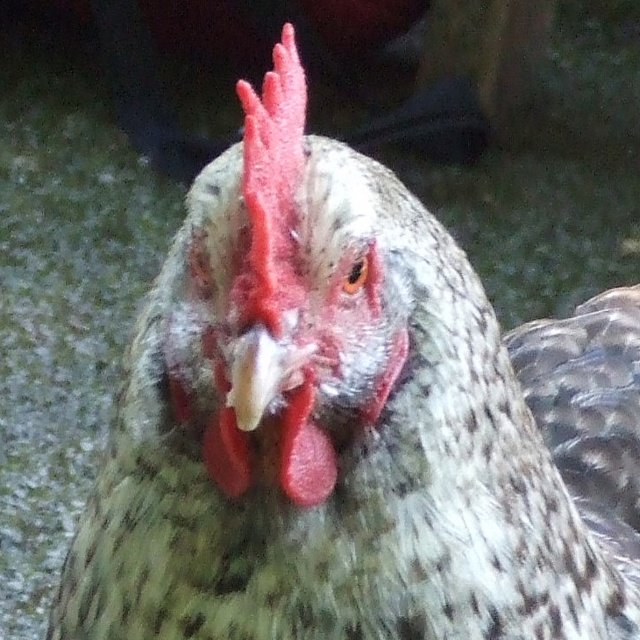Chicken: (48, 23, 640, 640)
